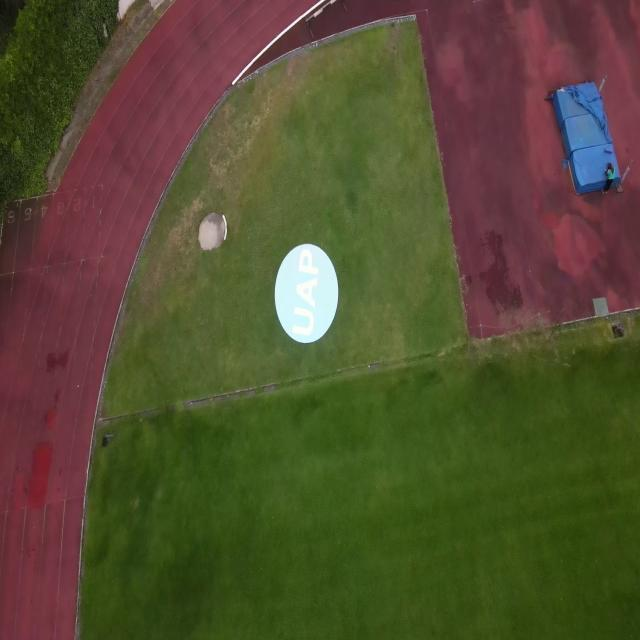vehicle: (274, 244, 338, 344), (601, 163, 615, 194)
